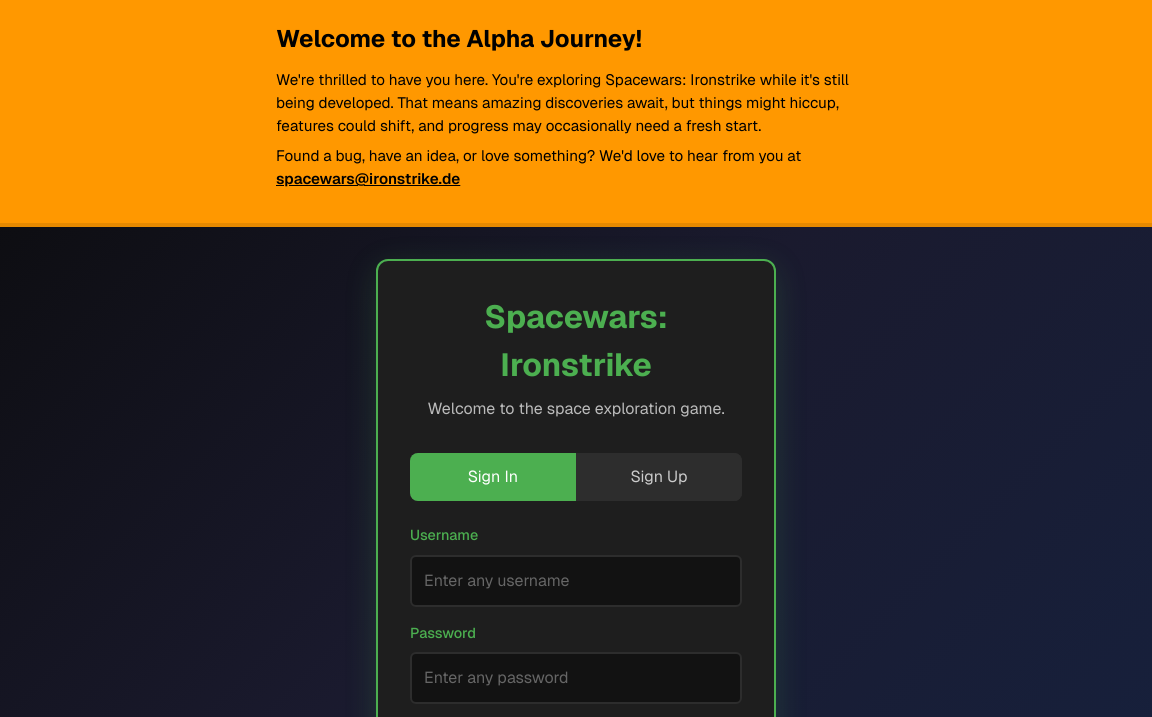
Test: LoginPageComponent — registration emailSent behaviour › registrationError_showsErrorAndNoRedirect
Click the button "Sign Up" at (659, 477), box 576,453 -> 742,501
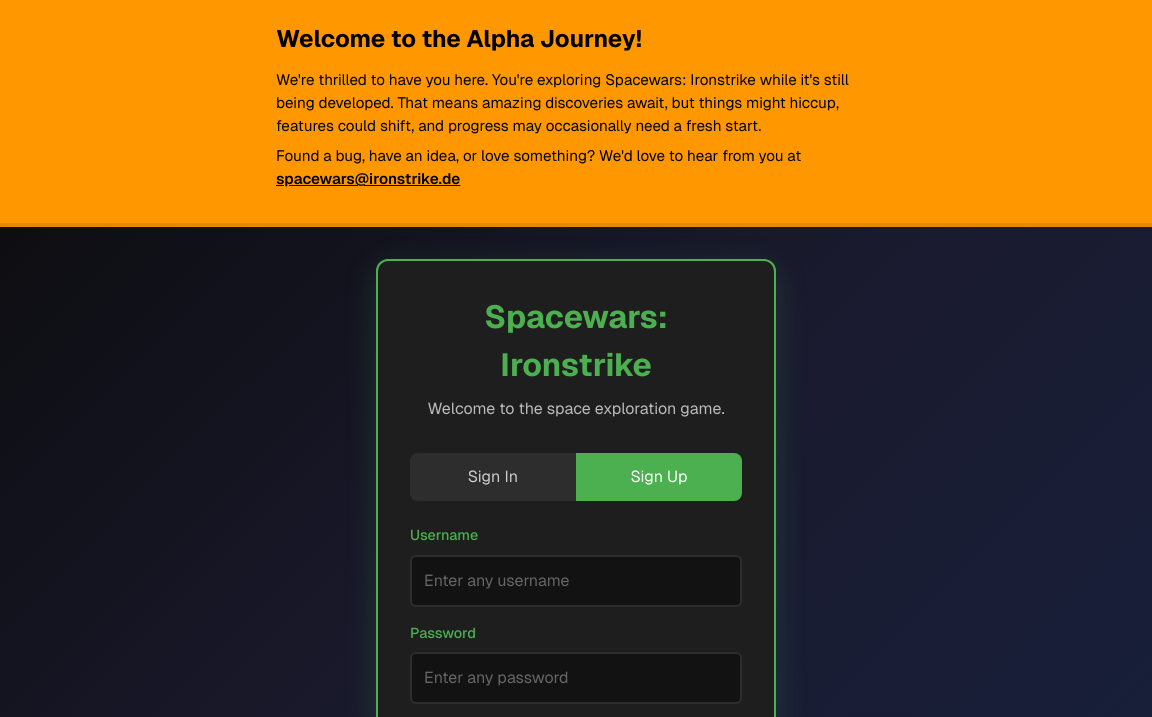
Type "newuser" into the field labelled "Username" at (576, 581), box 410,555 -> 742,607
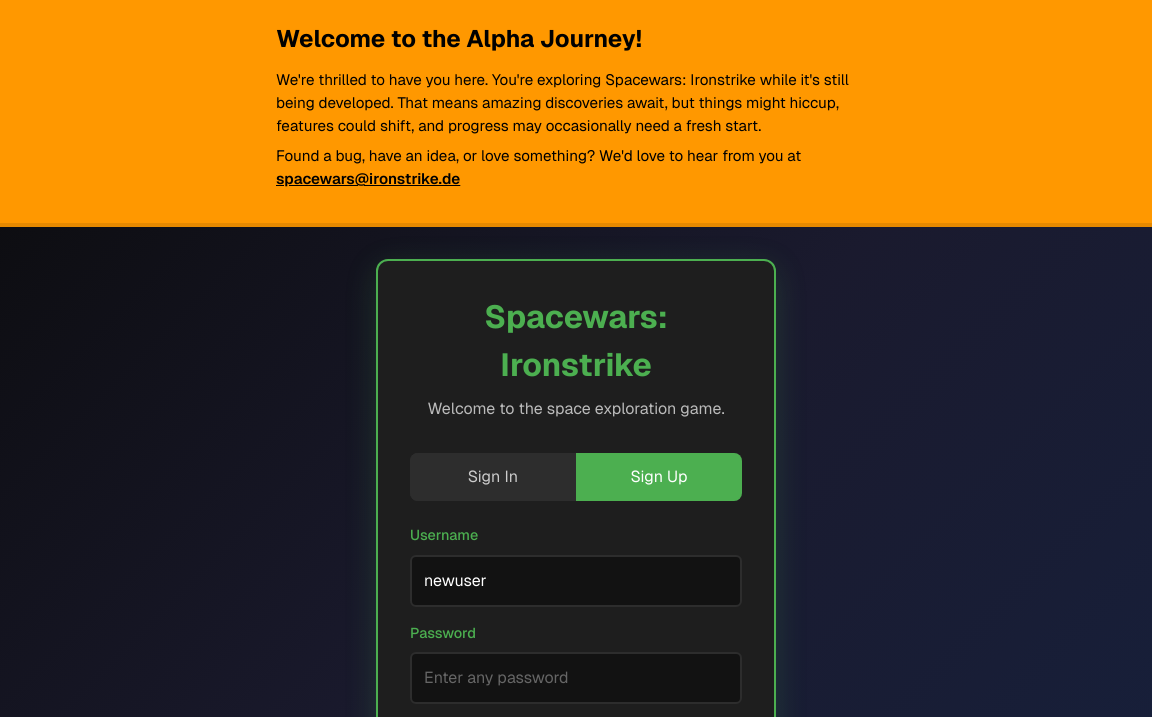
Type "password123" into the password field labelled "Password" at (576, 678), box 410,652 -> 742,704
(page scrolled)
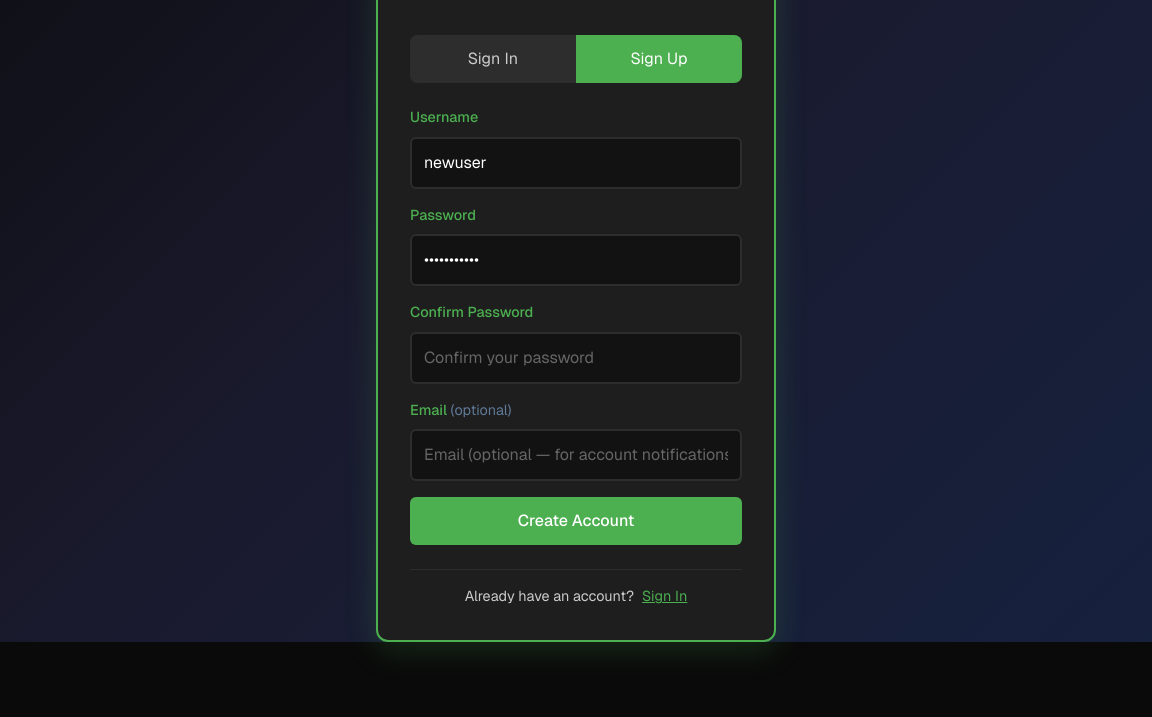
Type "password123" into the password field labelled "Confirm Password" at (576, 358), box 410,332 -> 742,384
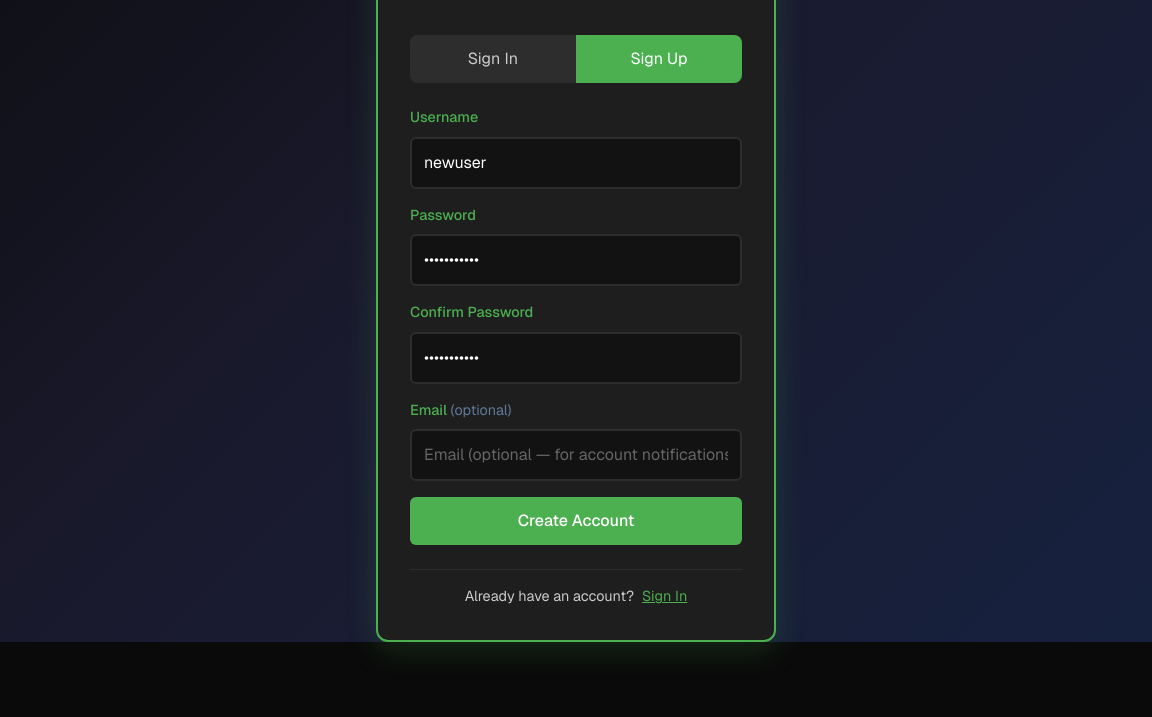
Click the button "Create Account" at (576, 521), box 410,497 -> 742,545
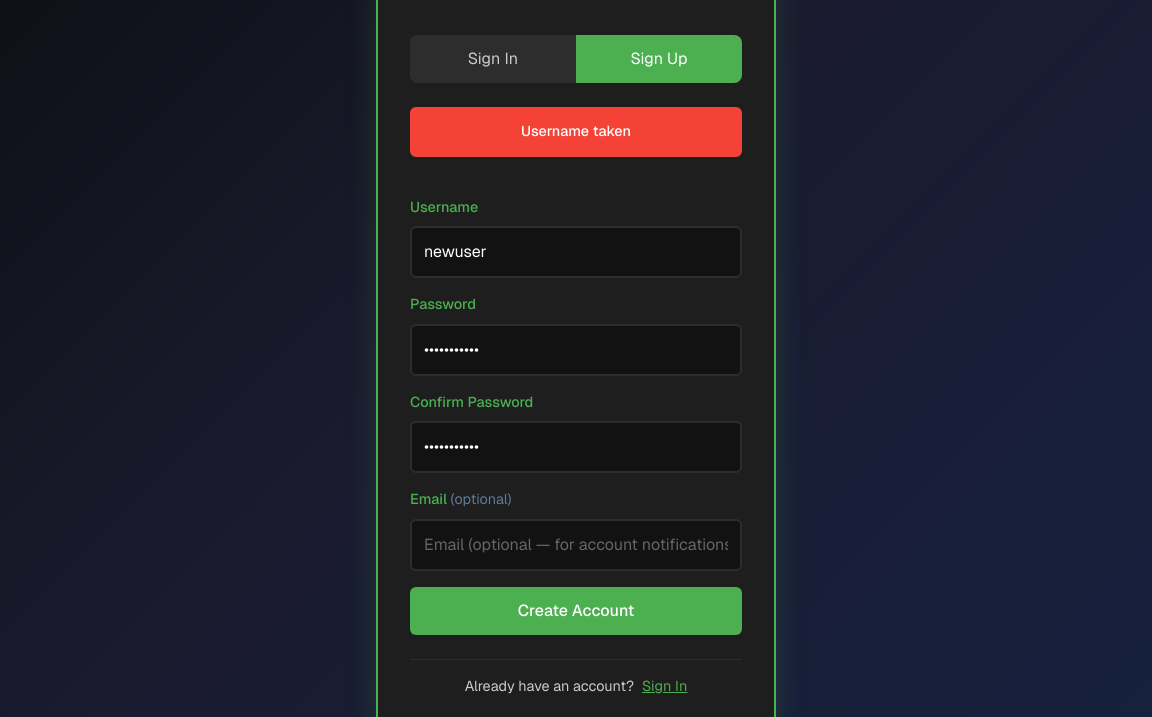
Expected: the text "Username taken" is shown, 410,107 -> 742,157
